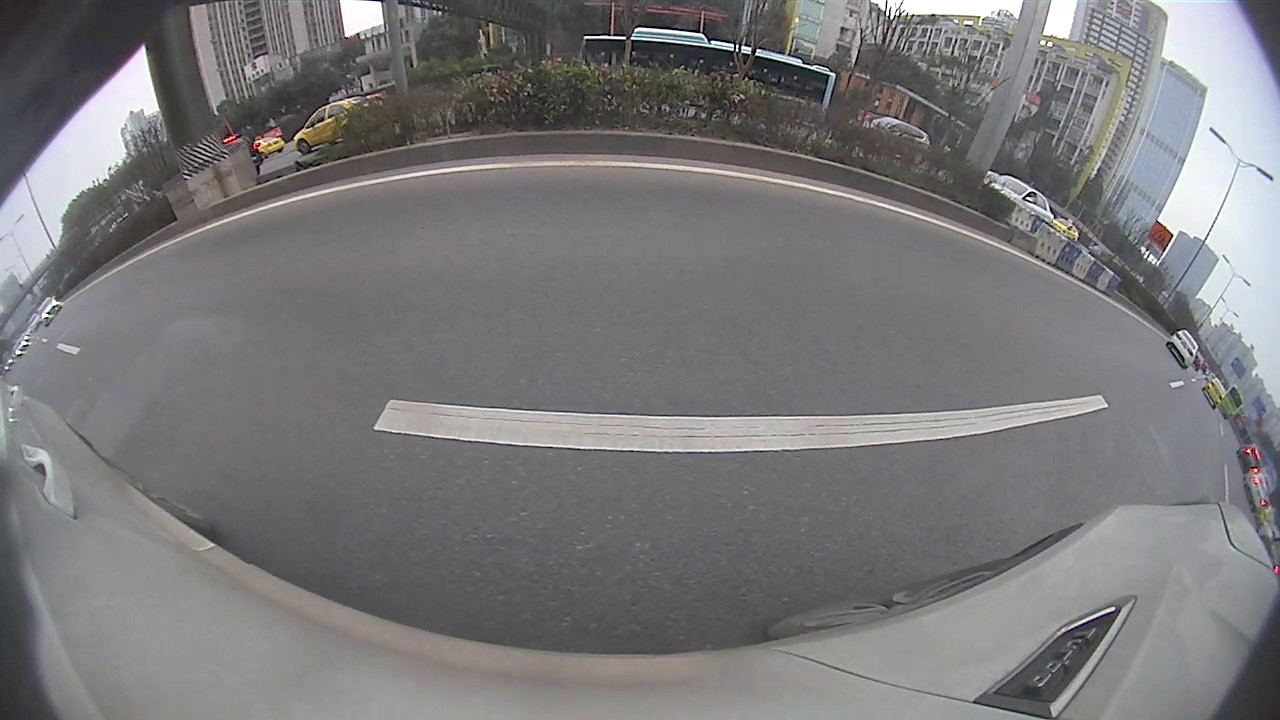car: (1164, 328, 1200, 371), (1201, 376, 1229, 412), (36, 293, 63, 328)
front: (295, 140, 312, 156)
